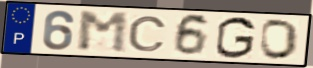6: (170, 13, 213, 59), (41, 9, 77, 52)
C: (126, 15, 169, 53)
G: (213, 15, 257, 60)
M: (77, 10, 129, 54)
O: (259, 18, 300, 61)
